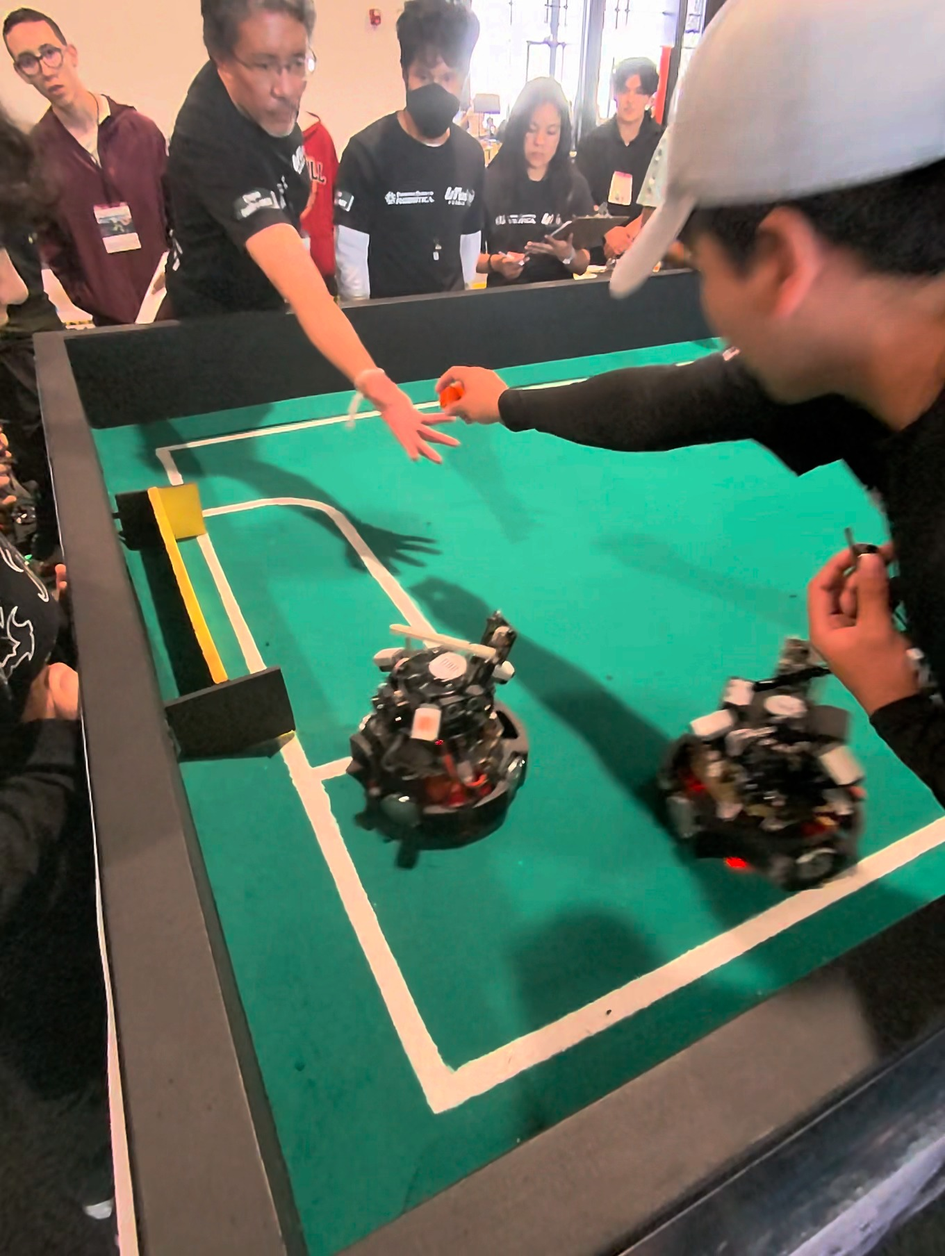Robot: (648, 636, 877, 900), (340, 607, 532, 863)
